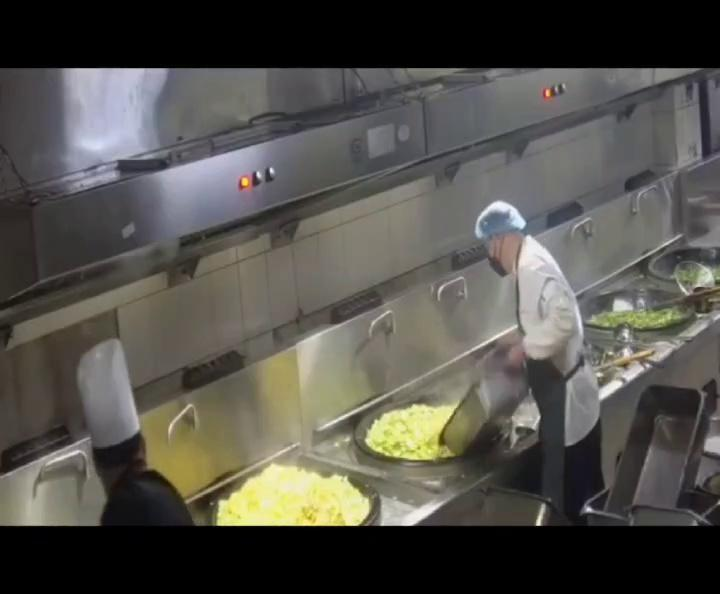gloves: (475, 201, 527, 241)
mask: (487, 251, 508, 277)
